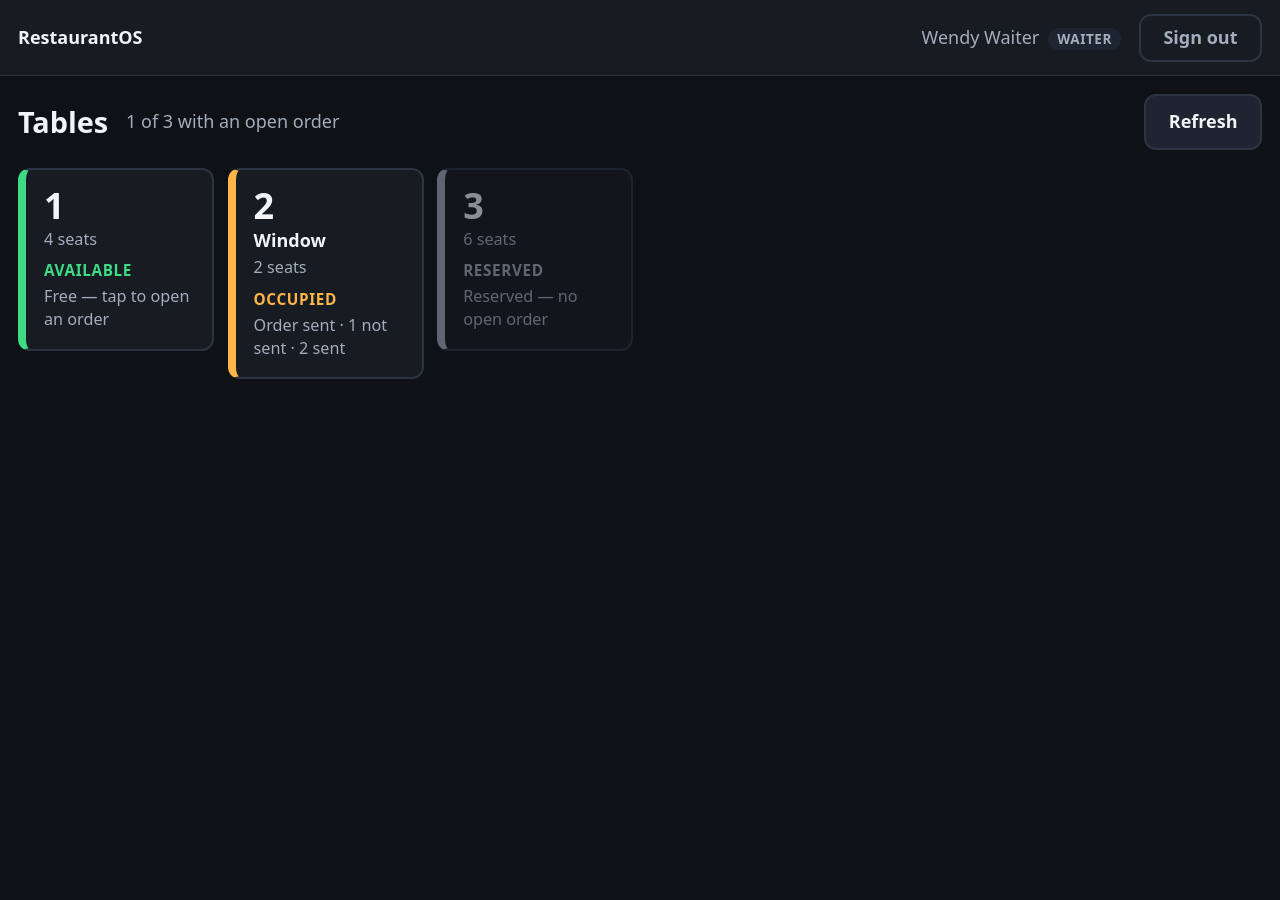
Scenario: Tables › reopens a table's active order with what was sent and its progress
Step 1. Click the button with aria-label "Table 2, Window" → (326, 274), box top-left (228, 168), bottom-right (424, 379)
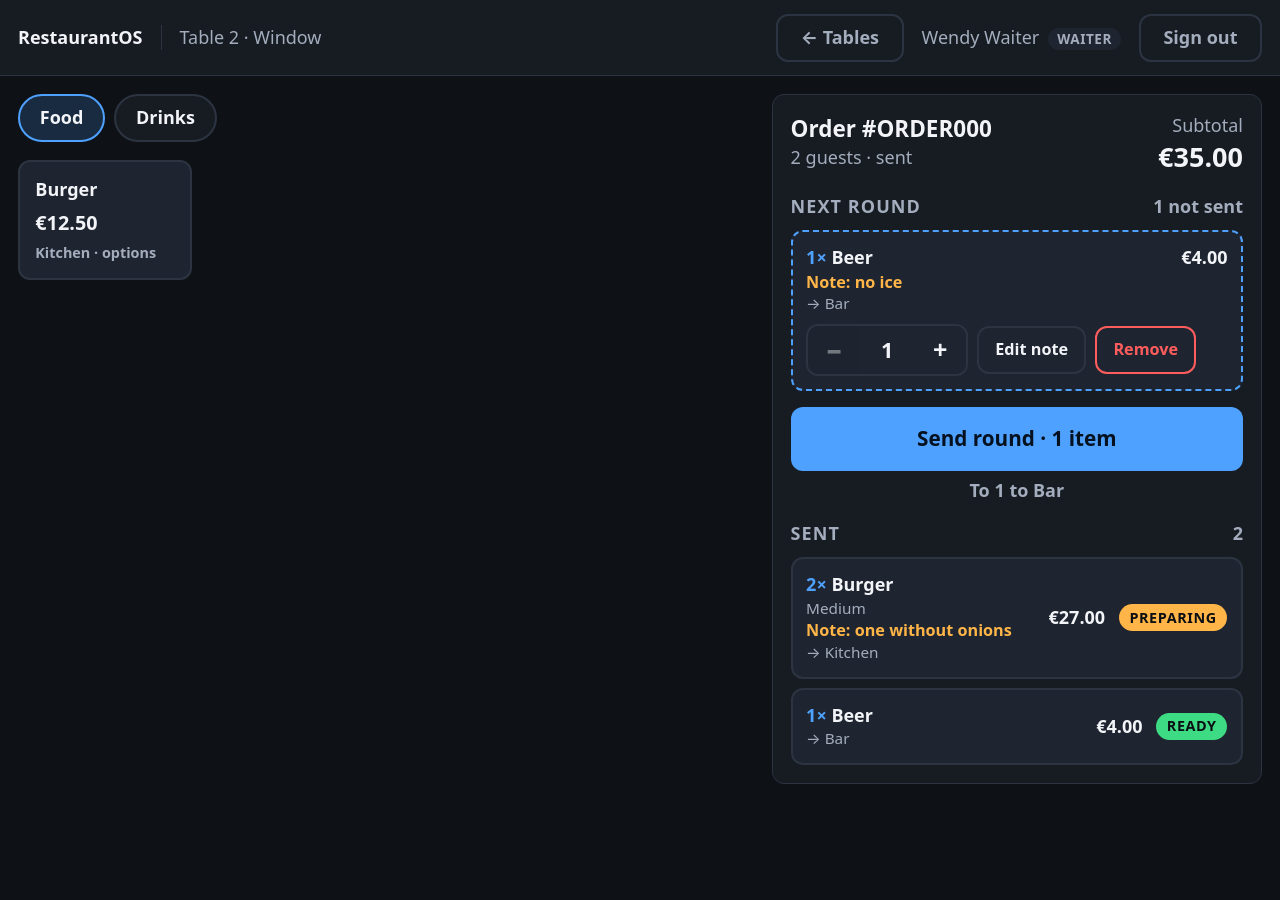
Expected: the text "Preparing" is shown, top-left (1119, 604), bottom-right (1227, 631)
Expected: the text "Ready" is shown, top-left (1156, 713), bottom-right (1228, 740)
Expected: the text "Note: one without onions" is shown, top-left (806, 619), bottom-right (1035, 642)
